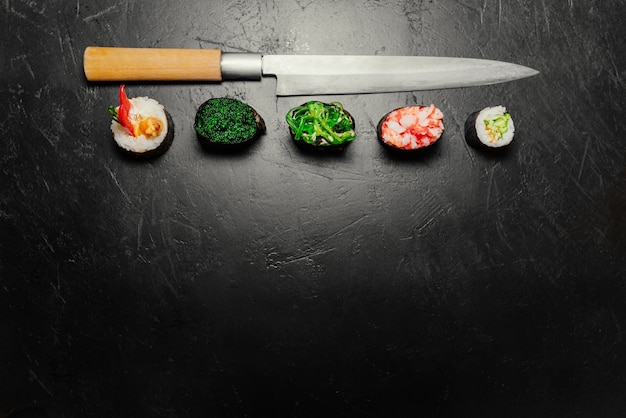knife: (82, 43, 542, 98)
